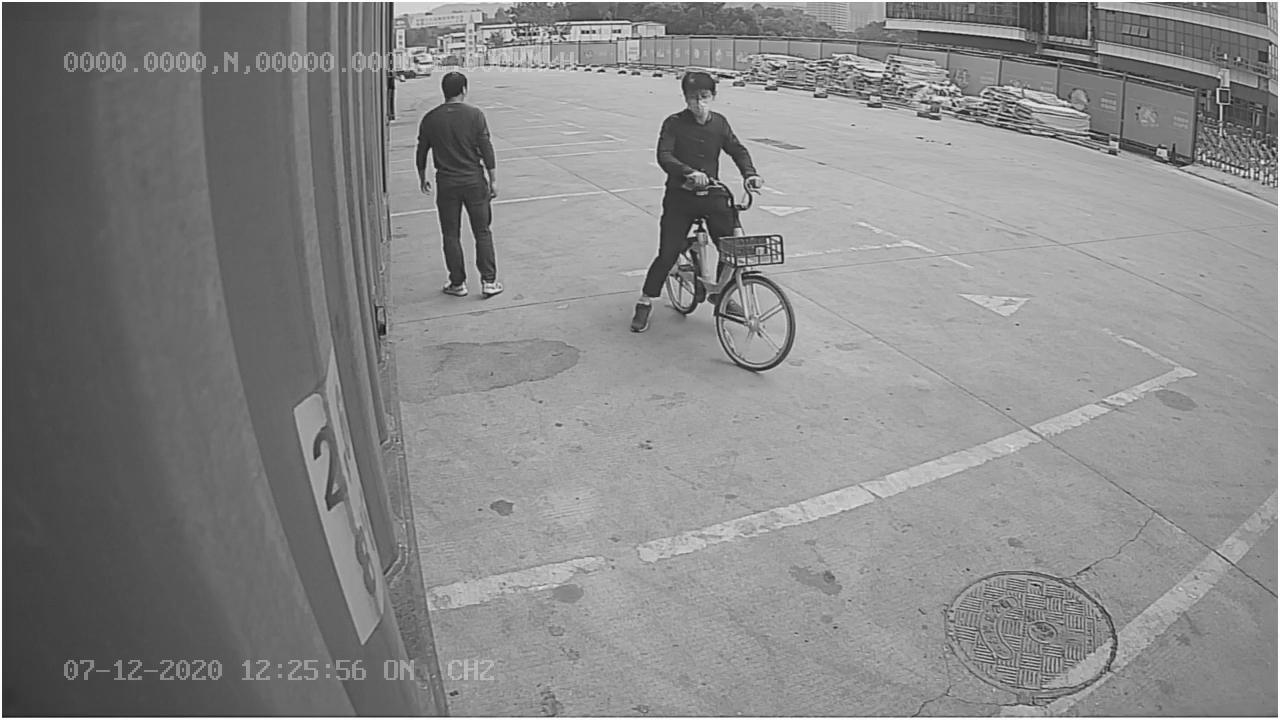person: (411, 67, 509, 304)
